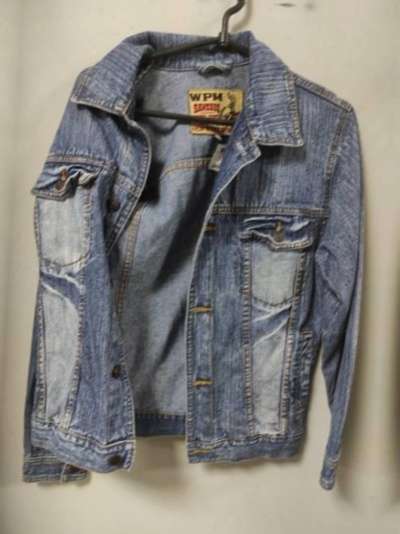Blazer: (21, 16, 391, 511), (377, 36, 400, 530)
